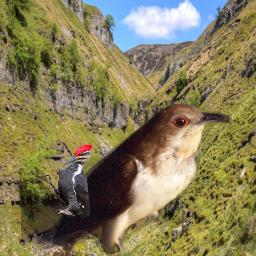Cuckoo: (21, 102, 232, 256)
Woodpecker: (44, 144, 92, 218)
